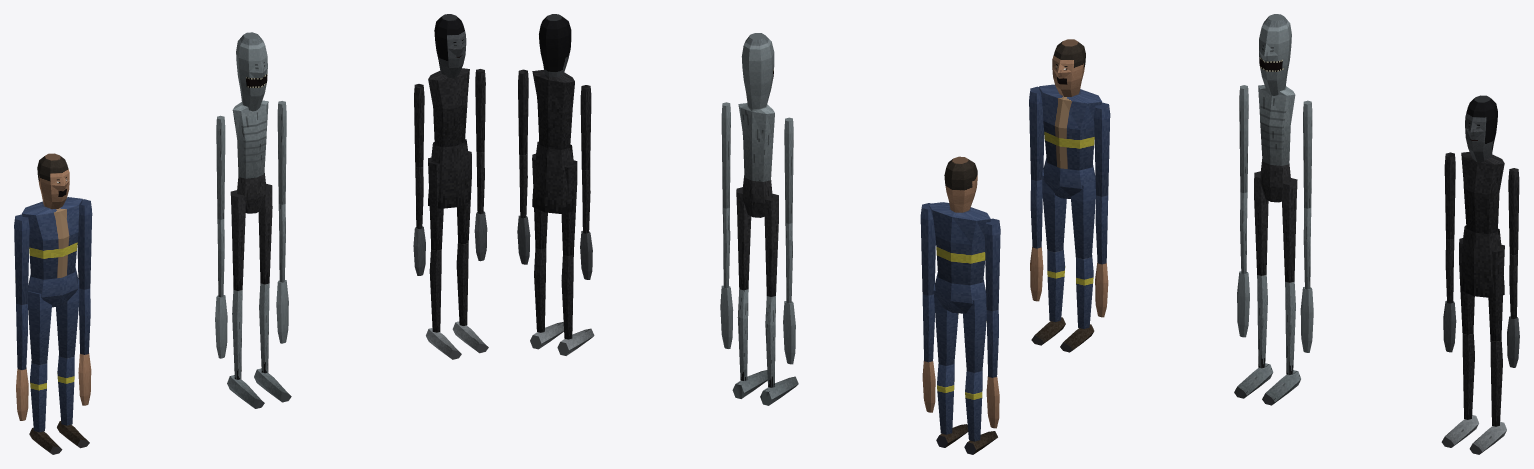
File: Monsters.fbx
The picture shows the model from 3 angles, left to right: view 1: azimuth 30°, elevation 25°; view 2: azimuth 150°, elevation 25°; view 3: azimuth 330°, elevation 25°; orthographic projection. The views are drawn at different scales.
Parts seen in each view (by area): view 1: MU_UpperTorso, RF_UpperTorso, RN_UpperTorso, RN_Head, RF_CoatSkirt, RF_Head, MU_Head, MU_RightUpperLeg, MU_RightUpperArm, RN_RightUpperLeg, MU_LeftUpperLeg, MU_LeftUpperArm (+31 smaller); view 2: MU_UpperTorso, RF_UpperTorso, RF_CoatSkirt, RN_UpperTorso, RN_Head, RF_Head, MU_Head, MU_RightUpperLeg, MU_RightUpperArm, RN_RightUpperLeg, MU_LowerTorso, MU_LeftUpperArm (+31 smaller); view 3: MU_UpperTorso, RF_UpperTorso, RN_UpperTorso, RN_Head, RF_CoatSkirt, RF_Head, MU_Head, MU_LeftUpperLeg, MU_LeftUpperArm, RN_LeftUpperLeg, MU_RightUpperLeg, MU_RightUpperArm (+31 smaller).
Part boxes in pixels (x1=…): MU_UpperTorso: x1=22, y1=197, x2=82, y2=279; RF_UpperTorso: x1=428, y1=68, x2=469, y2=147; RN_UpperTorso: x1=232, y1=100, x2=268, y2=178; RN_Head: x1=236, y1=32, x2=267, y2=111; RF_CoatSkirt: x1=428, y1=139, x2=469, y2=208; RF_Head: x1=434, y1=14, x2=466, y2=78; MU_Head: x1=37, y1=153, x2=69, y2=209; MU_RightUpperLeg: x1=27, y1=285, x2=51, y2=365; MU_RightUpperArm: x1=14, y1=214, x2=29, y2=304; RN_RightUpperLeg: x1=230, y1=190, x2=245, y2=290; MU_LeftUpperLeg: x1=56, y1=278, x2=79, y2=358; MU_LeftUpperArm: x1=77, y1=199, x2=92, y2=289; MU_UpperTorso: x1=928, y1=202, x2=990, y2=285; RF_UpperTorso: x1=532, y1=70, x2=574, y2=149; RF_CoatSkirt: x1=532, y1=141, x2=575, y2=214; RN_UpperTorso: x1=738, y1=103, x2=774, y2=181; RN_Head: x1=741, y1=33, x2=774, y2=109; RF_Head: x1=539, y1=14, x2=571, y2=77; MU_Head: x1=944, y1=156, x2=977, y2=212; MU_RightUpperLeg: x1=963, y1=290, x2=986, y2=372; MU_RightUpperArm: x1=984, y1=218, x2=1000, y2=311; RN_RightUpperLeg: x1=764, y1=193, x2=778, y2=296; MU_LowerTorso: x1=935, y1=272, x2=986, y2=313; MU_LeftUpperArm: x1=920, y1=203, x2=935, y2=295; MU_UpperTorso: x1=1039, y1=84, x2=1101, y2=170; RF_UpperTorso: x1=1461, y1=151, x2=1504, y2=234; RN_UpperTorso: x1=1258, y1=85, x2=1295, y2=165; RN_Head: x1=1259, y1=14, x2=1291, y2=95; RF_CoatSkirt: x1=1461, y1=225, x2=1504, y2=297; RF_Head: x1=1465, y1=95, x2=1497, y2=162; MU_Head: x1=1052, y1=39, x2=1085, y2=96; MU_LeftUpperLeg: x1=1071, y1=176, x2=1095, y2=259; MU_LeftUpperArm: x1=1094, y1=102, x2=1110, y2=196; RN_LeftUpperLeg: x1=1282, y1=178, x2=1297, y2=282; MU_RightUpperLeg: x1=1042, y1=169, x2=1066, y2=252; MU_RightUpperArm: x1=1029, y1=86, x2=1044, y2=180.
Size of the model in its own units: 329 by 236 by 36.44.
Materials: 6 (6 with a texture image).
